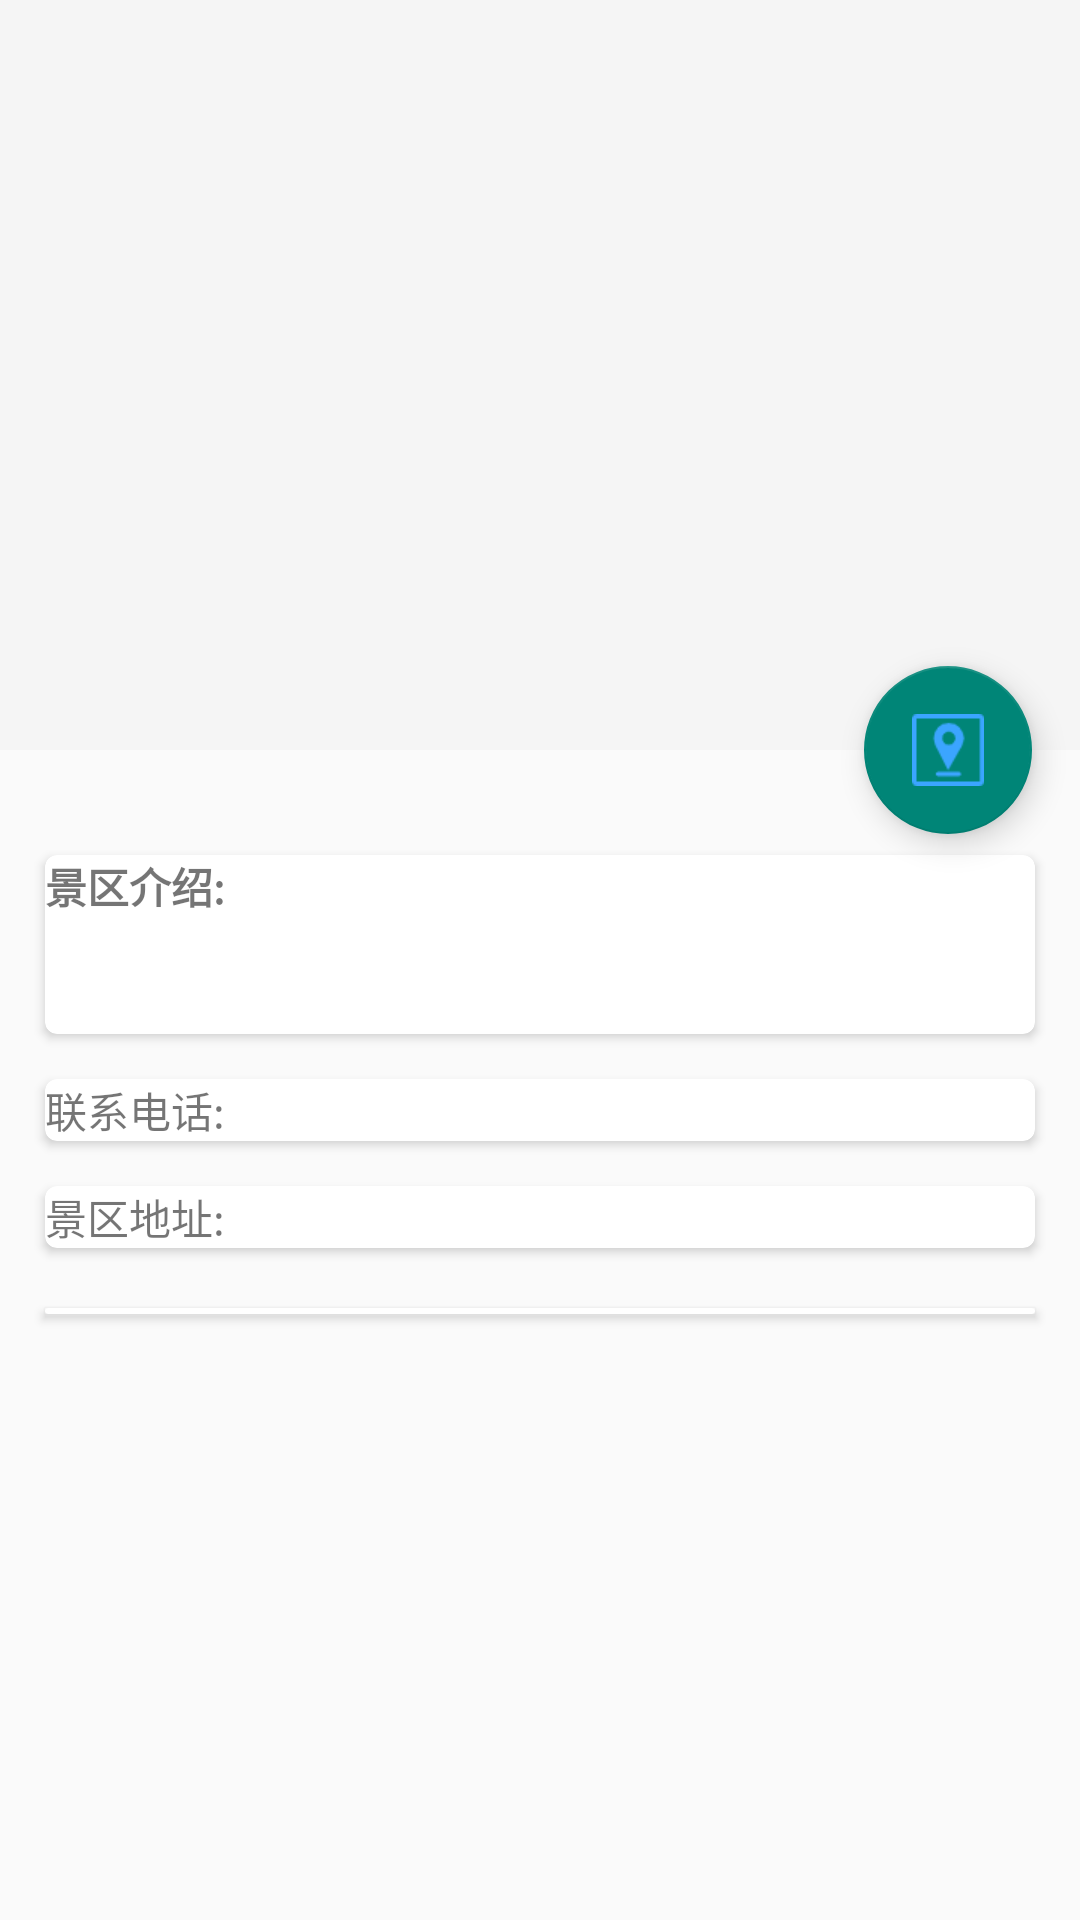

Named icons in this screenshot (1080w x 1920h) and their centers, [x,y]:
start location: [948,750]
